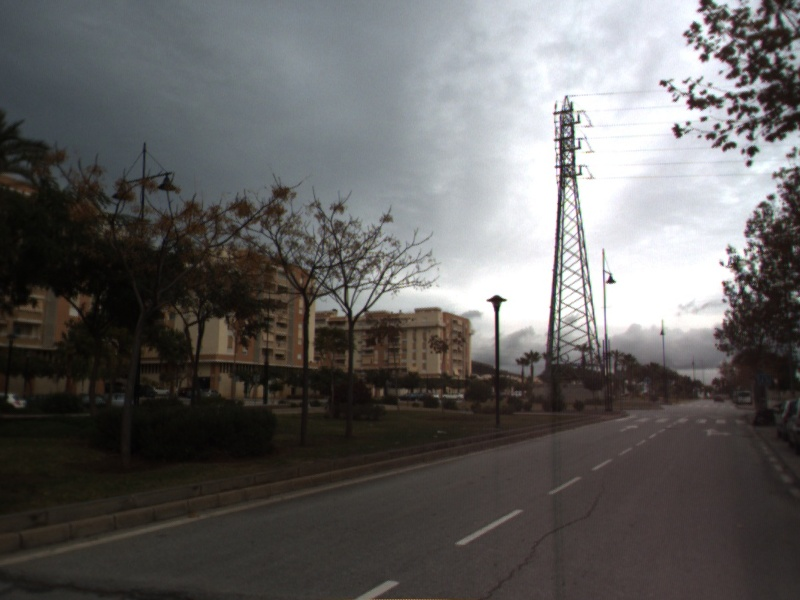STRAIGHT: (617, 422, 641, 434)
STRAIGHT_RIGHT: (701, 426, 735, 439)
